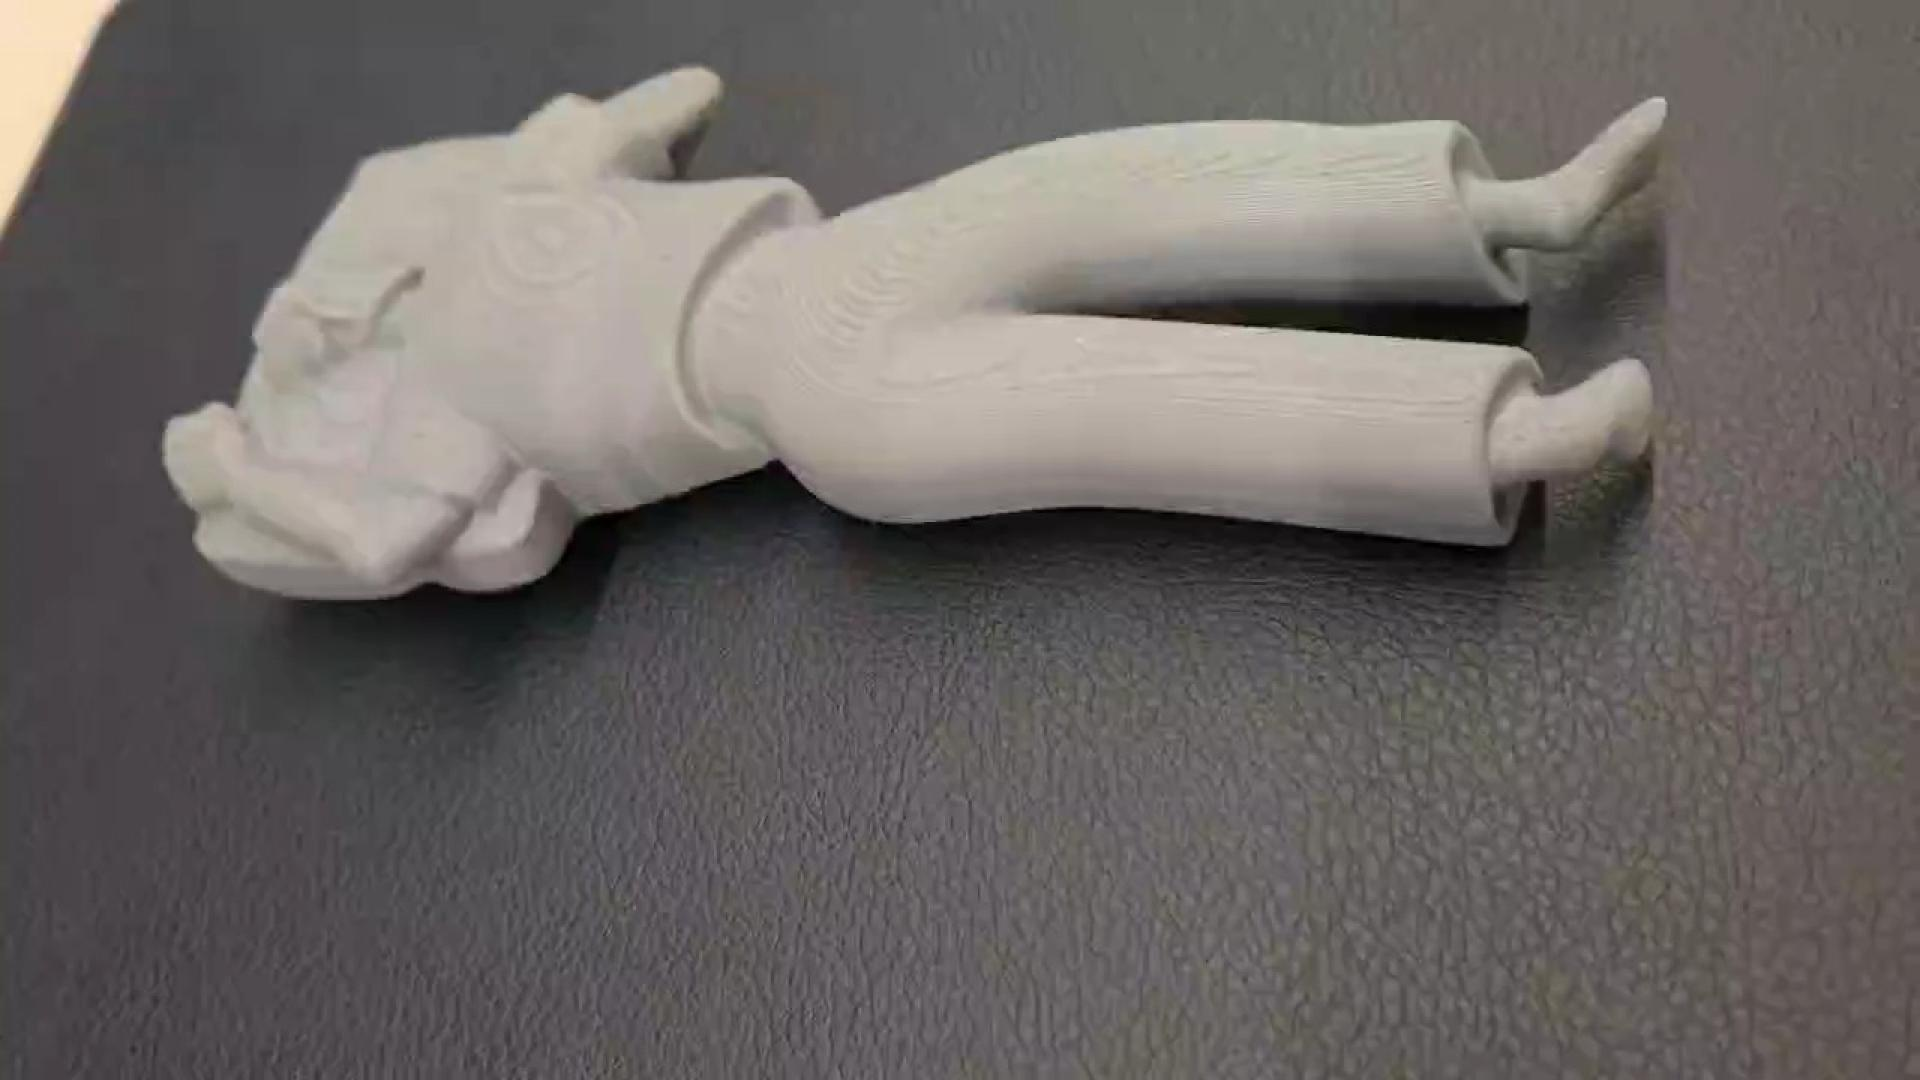Bad-style: (140, 50, 1706, 636)
